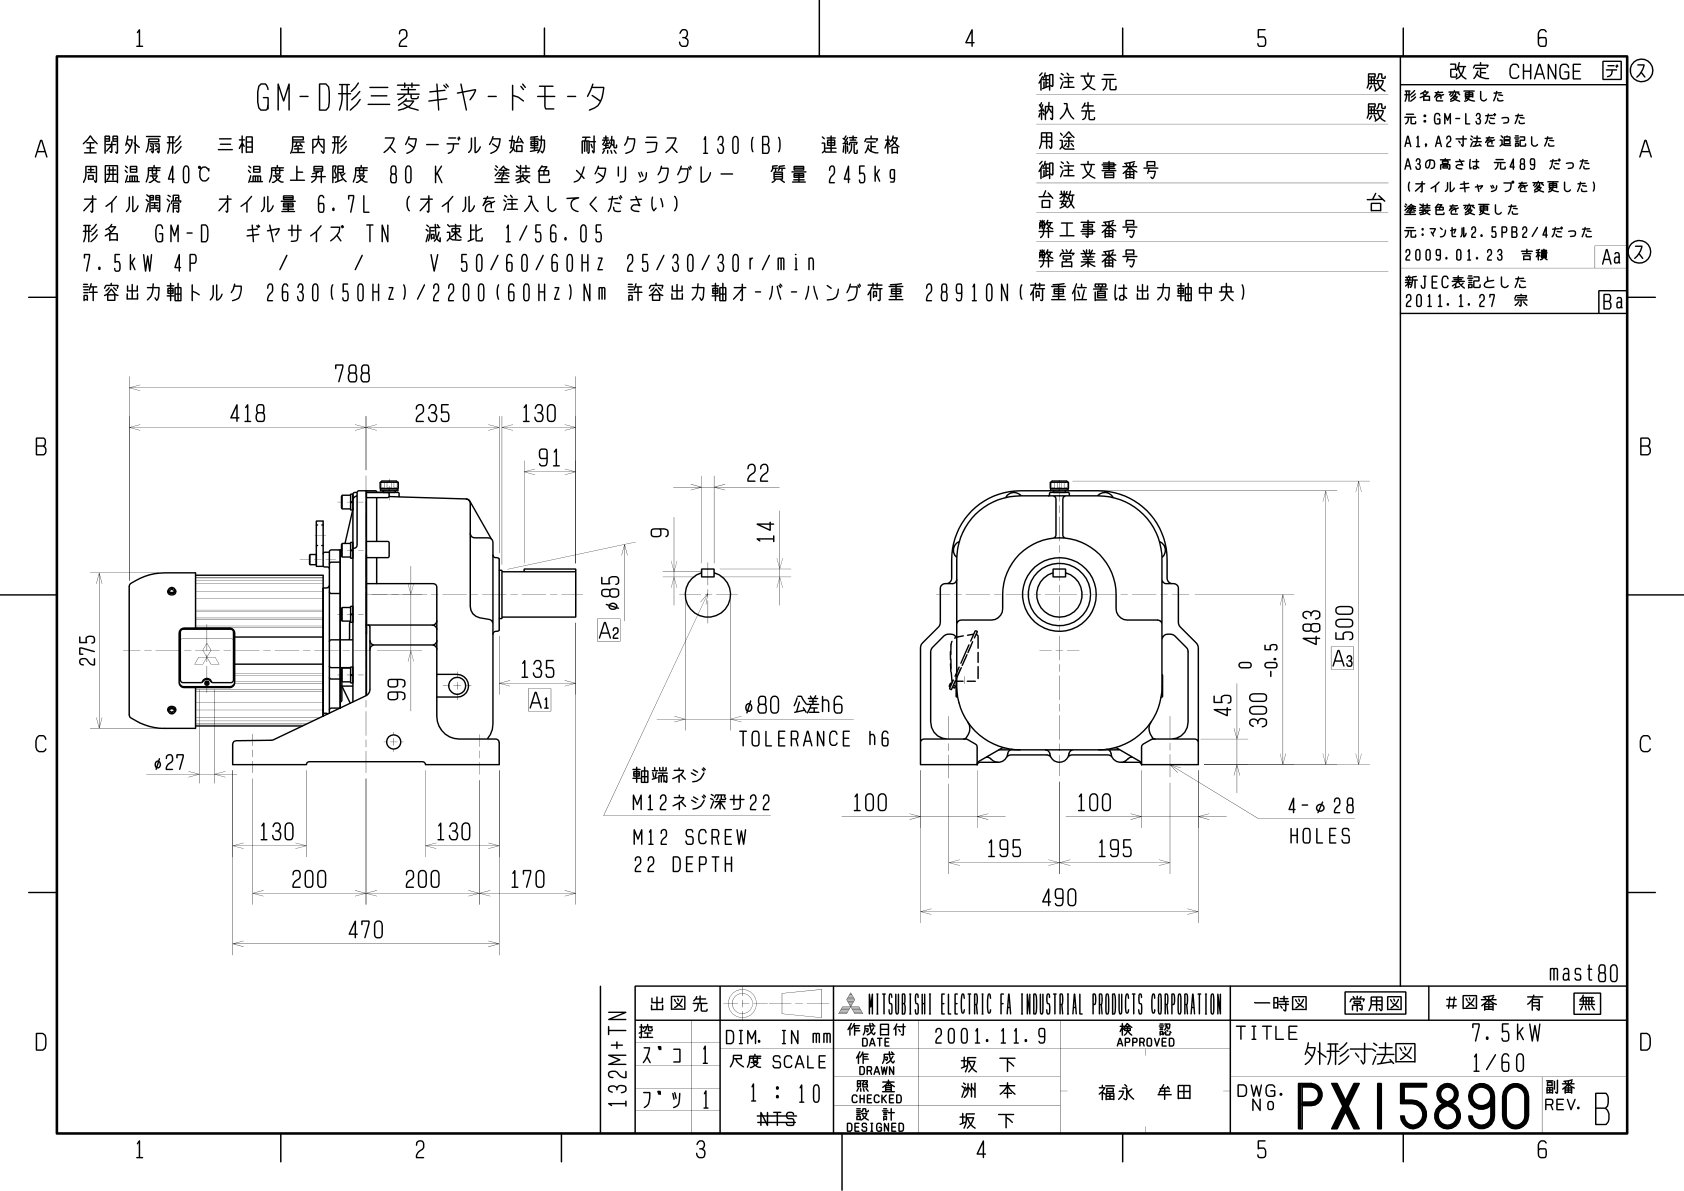GM_D_屋内＿三相_脚: (63, 342, 1393, 959)
